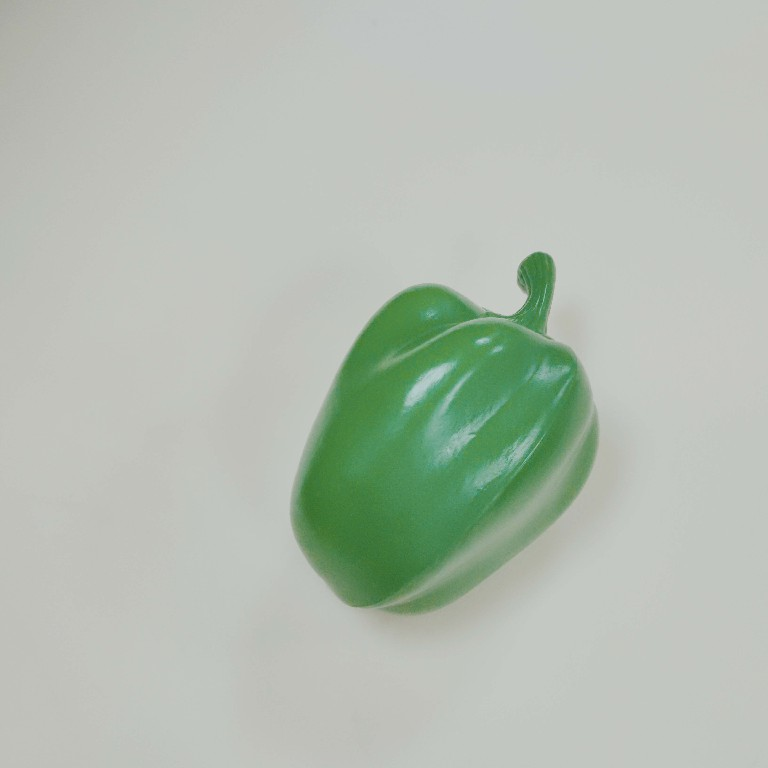fruit_pepper: (283, 245, 604, 623)
